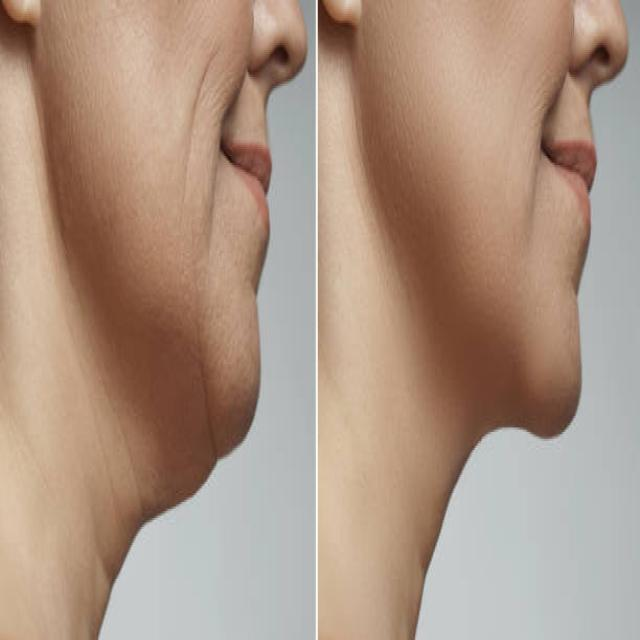Dry-Skin: (59, 11, 220, 454)
